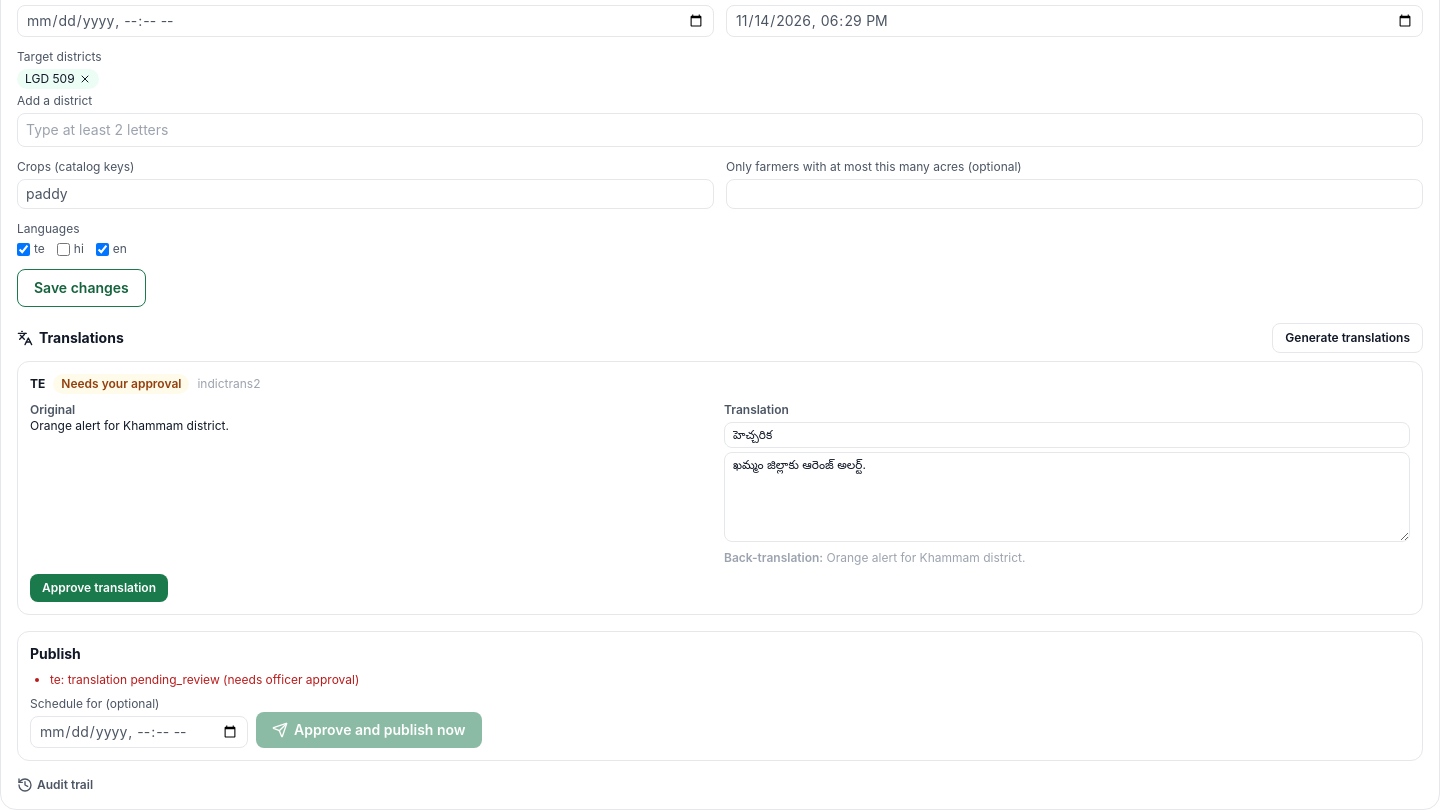
Test case: Bulletin editor › highlights provenance and blocks publishing until translations are approved
(page scrolled)
Expected: the list item "te: translation pending_review (needs officer approval)" is shown, 50,672 -> 359,687
Expected: the button "Approve and publish now" is disabled, 256,712 -> 482,748
Click the button "Approve translation" at (99, 588), box 30,574 -> 168,602
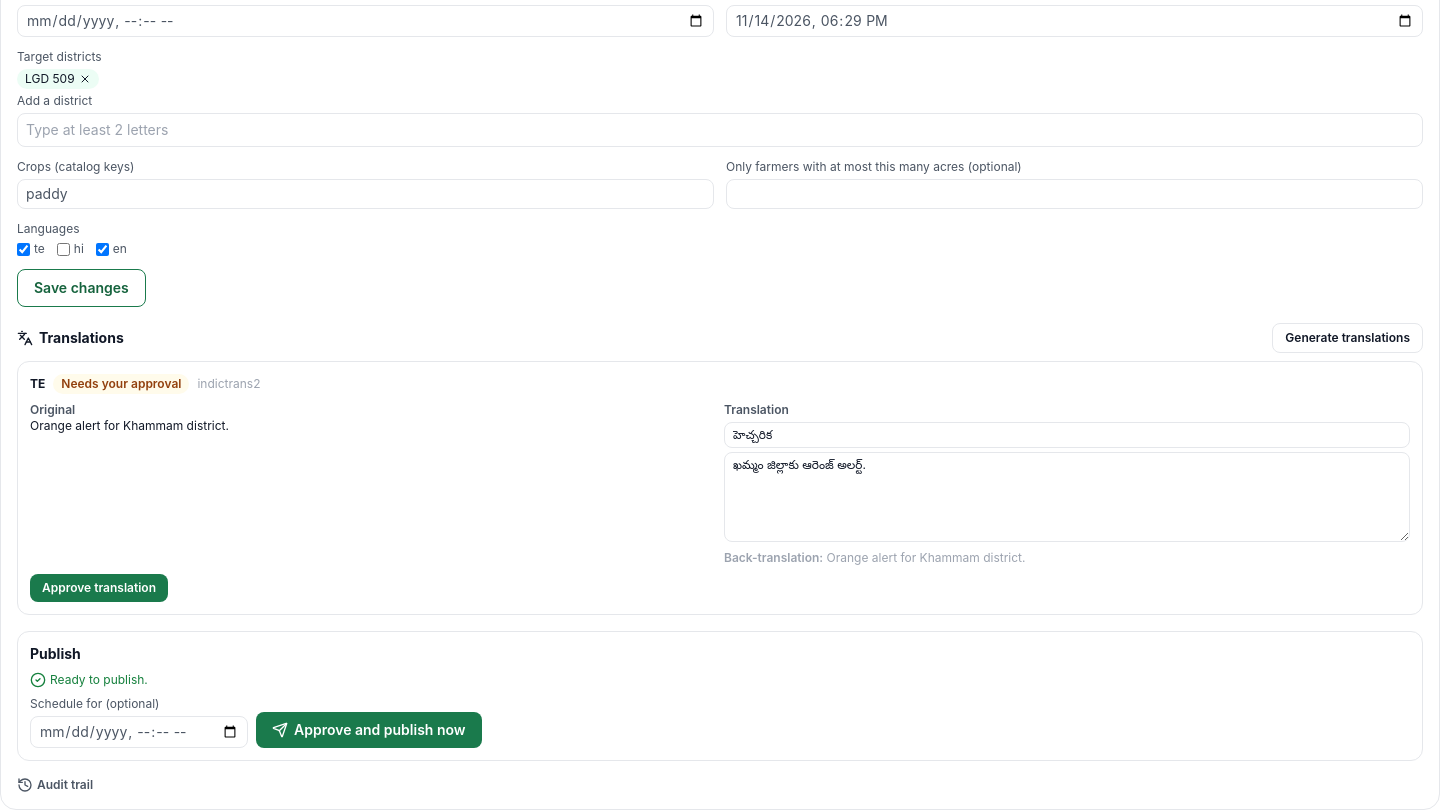
Result: the button "Approve and publish now" is enabled at 256,712 -> 482,748
